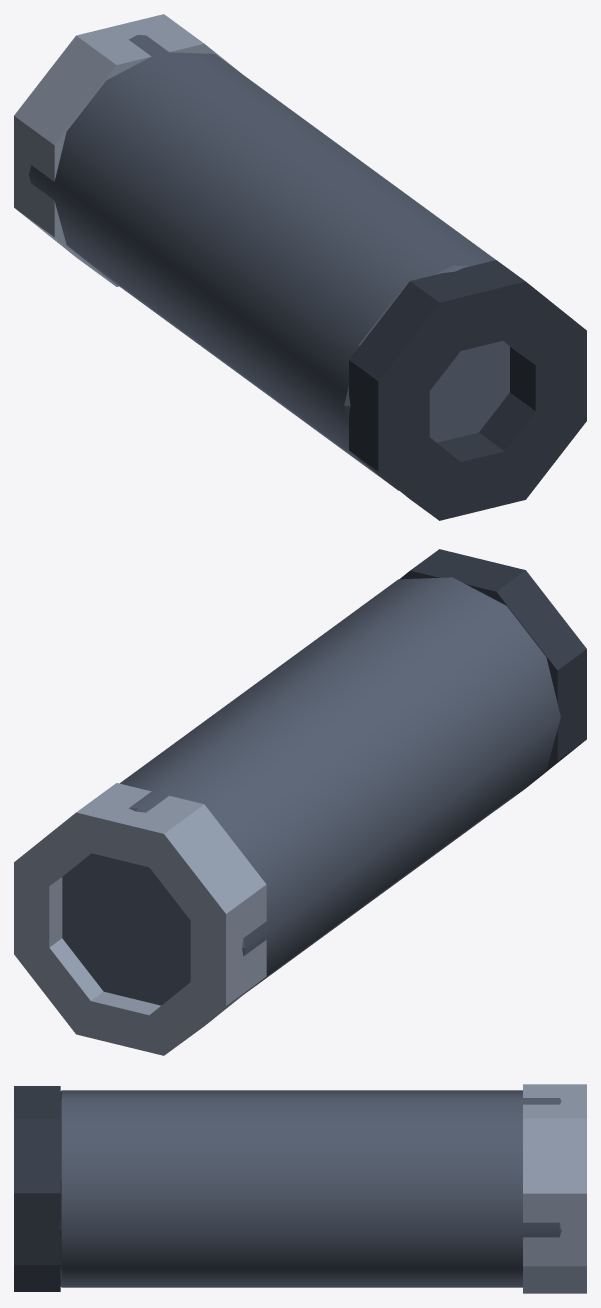
The model's file is Module_Suppressor_v003.fbx.
3 views of the same model, one above another, from view 1: azimuth 30°, elevation 25°; view 2: azimuth 150°, elevation 25°; view 3: azimuth 270°, elevation 25° (orthographic). The views are drawn at different scales.
Parts seen in each view (by area): view 1: Module_Suppressor__RECEIVER_MESH; view 2: Module_Suppressor__RECEIVER_MESH; view 3: Module_Suppressor__RECEIVER_MESH.
Boxes of the visible parts, box(x1,y1,x2,y2) form: Module_Suppressor__RECEIVER_MESH: box(14, 14, 586, 520); Module_Suppressor__RECEIVER_MESH: box(14, 549, 586, 1055); Module_Suppressor__RECEIVER_MESH: box(14, 1084, 586, 1293).
Bounding box in the file's own units: 0.34 × 0.34 × 0.985.
